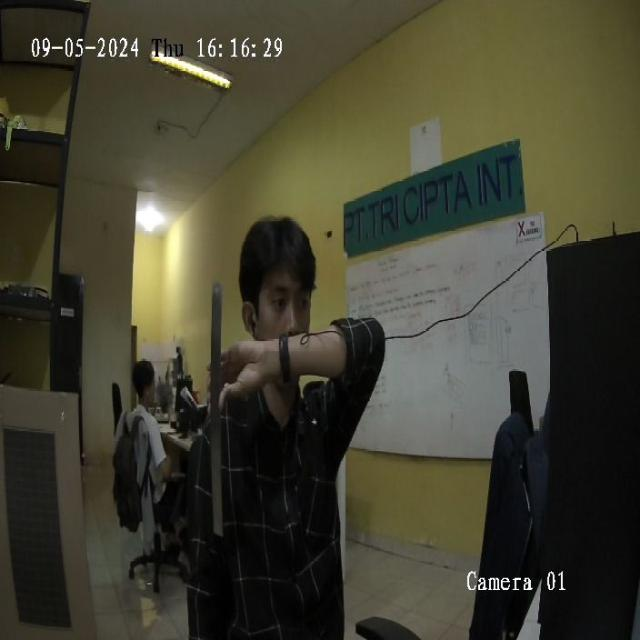Ruler: (211, 282, 222, 534)
